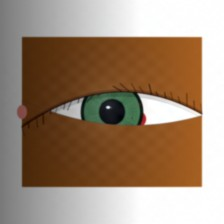hemorrhage_spot: (78, 87, 157, 151)
